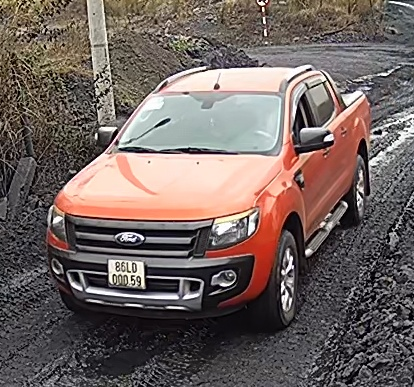vehicle plate: (103, 255, 147, 290)
